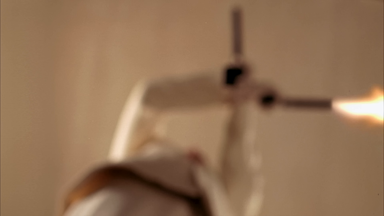firearm: (224, 6, 247, 88), (261, 90, 332, 110)
